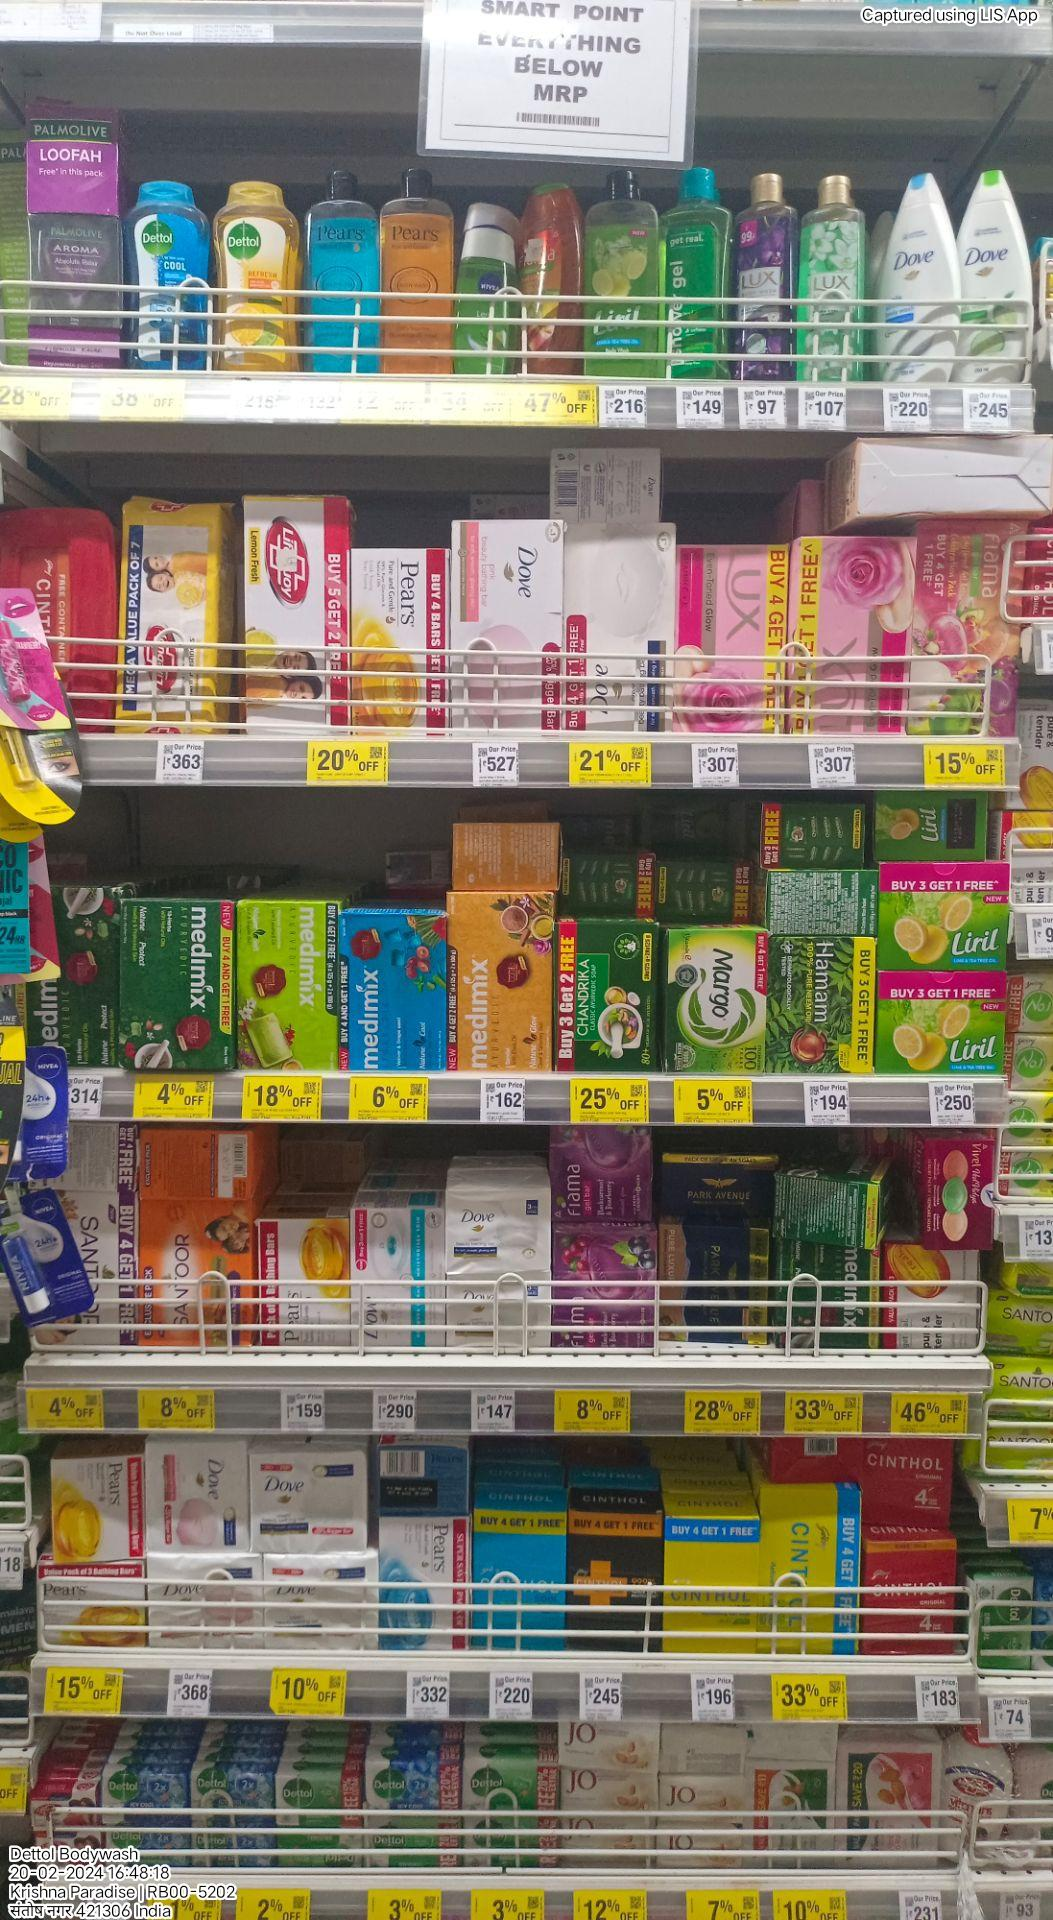Dettol_Bodywash_Cool: (132, 171, 207, 371)
Dettol_Bodywash_Refresh: (218, 185, 300, 372)
Dove_Gentle_Exfoliating_Body_Wash_250ML: (877, 170, 960, 381)
Dove_Refreshing_Body_Wash_250ML: (962, 171, 1028, 382)
Liril_Lime_and_Tea_Tree_Oil_Body_Wash_250ML: (581, 179, 661, 376)
Lux_Black_Orchid_Scent_and_Juniper_Oil_Body_Wash_245ML: (734, 170, 798, 381)
Lux_Body_Wash_Skin_Detox_Freesia_Scent_and_Alove_Vera_245ML: (801, 172, 865, 380)
Pears_Pure_Glycerin_and_Mint_Extracts_Body_Wash_250ML: (306, 169, 381, 371)
